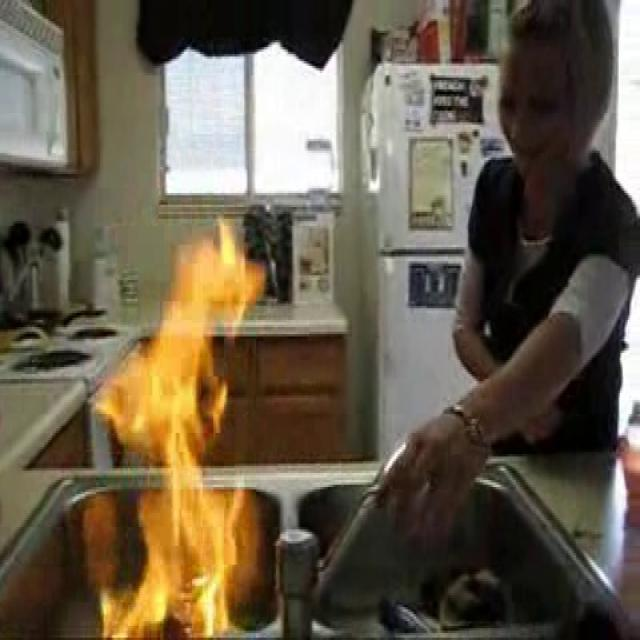Fire: (106, 227, 264, 636)
